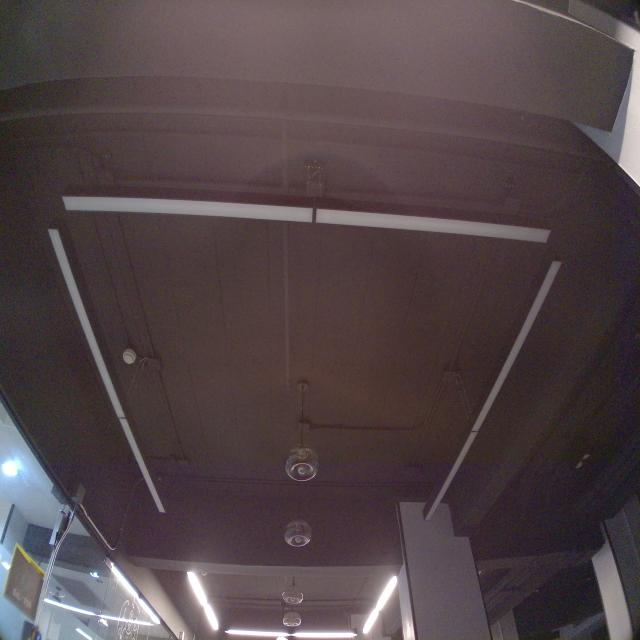lamp2_off: (415, 259, 569, 527), (40, 225, 173, 519), (55, 192, 567, 255)
